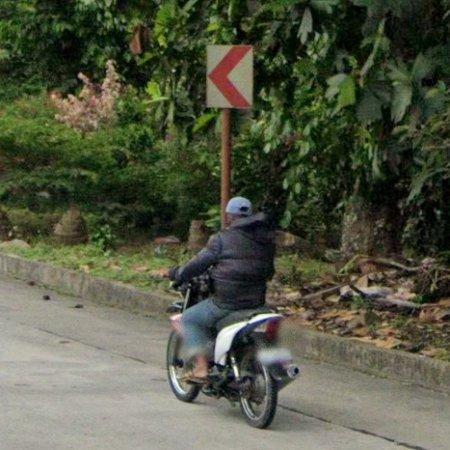motorcycles: (167, 308, 300, 428), (176, 272, 211, 311)
